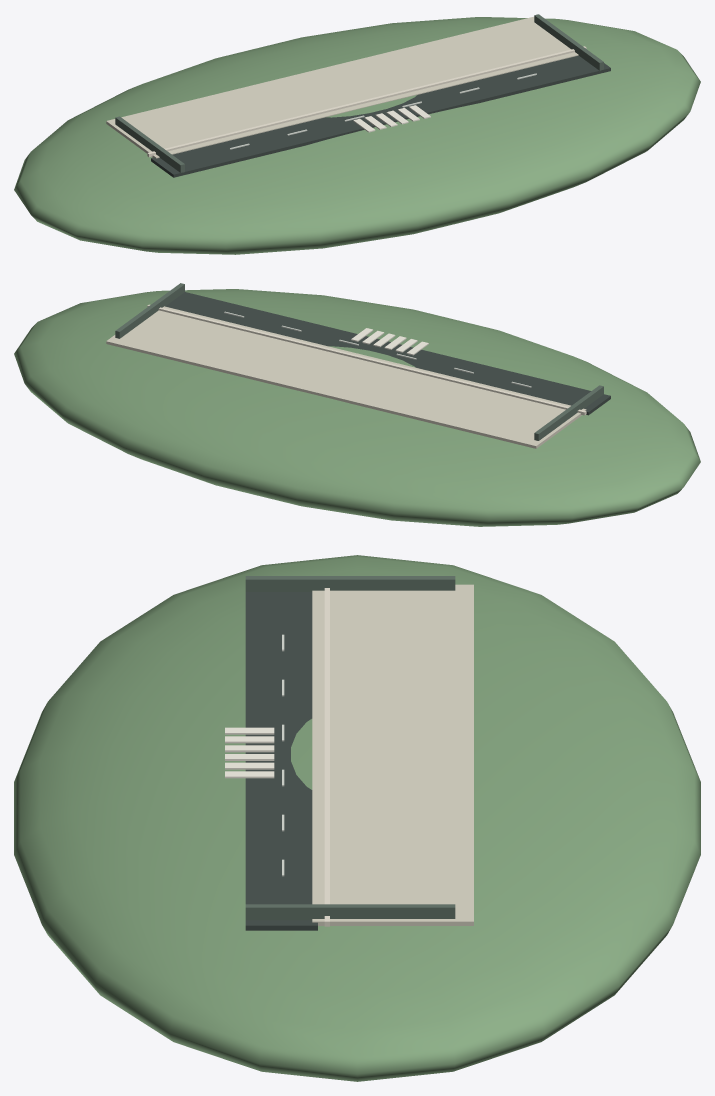
Rendered from street_base.glb.
3 views of the same model, one above another, from view 1: azimuth 30°, elevation 25°; view 2: azimuth 150°, elevation 25°; view 3: azimuth 270°, elevation 25° (orthographic). The views are drawn at different scales.
Parts seen in each view (by area): view 1: small_planet_ground, sidewalk, asphalt, curb, edge_-5.65, edge_5.65; view 2: small_planet_ground, sidewalk, asphalt, curb, edge_5.65, edge_-5.65; view 3: small_planet_ground, sidewalk, asphalt, edge_5.65, edge_-5.65, curb.
Boxes of the visible parts, left/top/right/bottom form: small_planet_ground: left=14, top=17, right=700, bottom=254; sidewalk: left=106, top=16, right=578, bottom=158; asphalt: left=151, top=55, right=610, bottom=177; curb: left=147, top=46, right=586, bottom=157; edge_-5.65: left=115, top=116, right=184, bottom=172; edge_5.65: left=534, top=14, right=603, bottom=70; small_planet_ground: left=14, top=289, right=700, bottom=526; sidewalk: left=106, top=306, right=586, bottom=448; asphalt: left=165, top=292, right=610, bottom=415; curb: left=147, top=304, right=586, bottom=415; edge_5.65: left=115, top=283, right=184, bottom=338; edge_-5.65: left=534, top=385, right=603, bottom=440; small_planet_ground: left=14, top=555, right=700, bottom=1081; sidewalk: left=312, top=584, right=473, bottom=925; asphalt: left=245, top=592, right=317, bottom=930; edge_5.65: left=245, top=904, right=455, bottom=920; edge_-5.65: left=245, top=576, right=455, bottom=591; curb: left=324, top=588, right=329, bottom=926.
Size of the model in its own units: 17.6 by 2.28 by 10.
